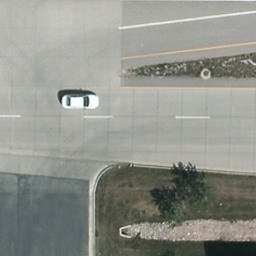car: (61, 95, 100, 110)
